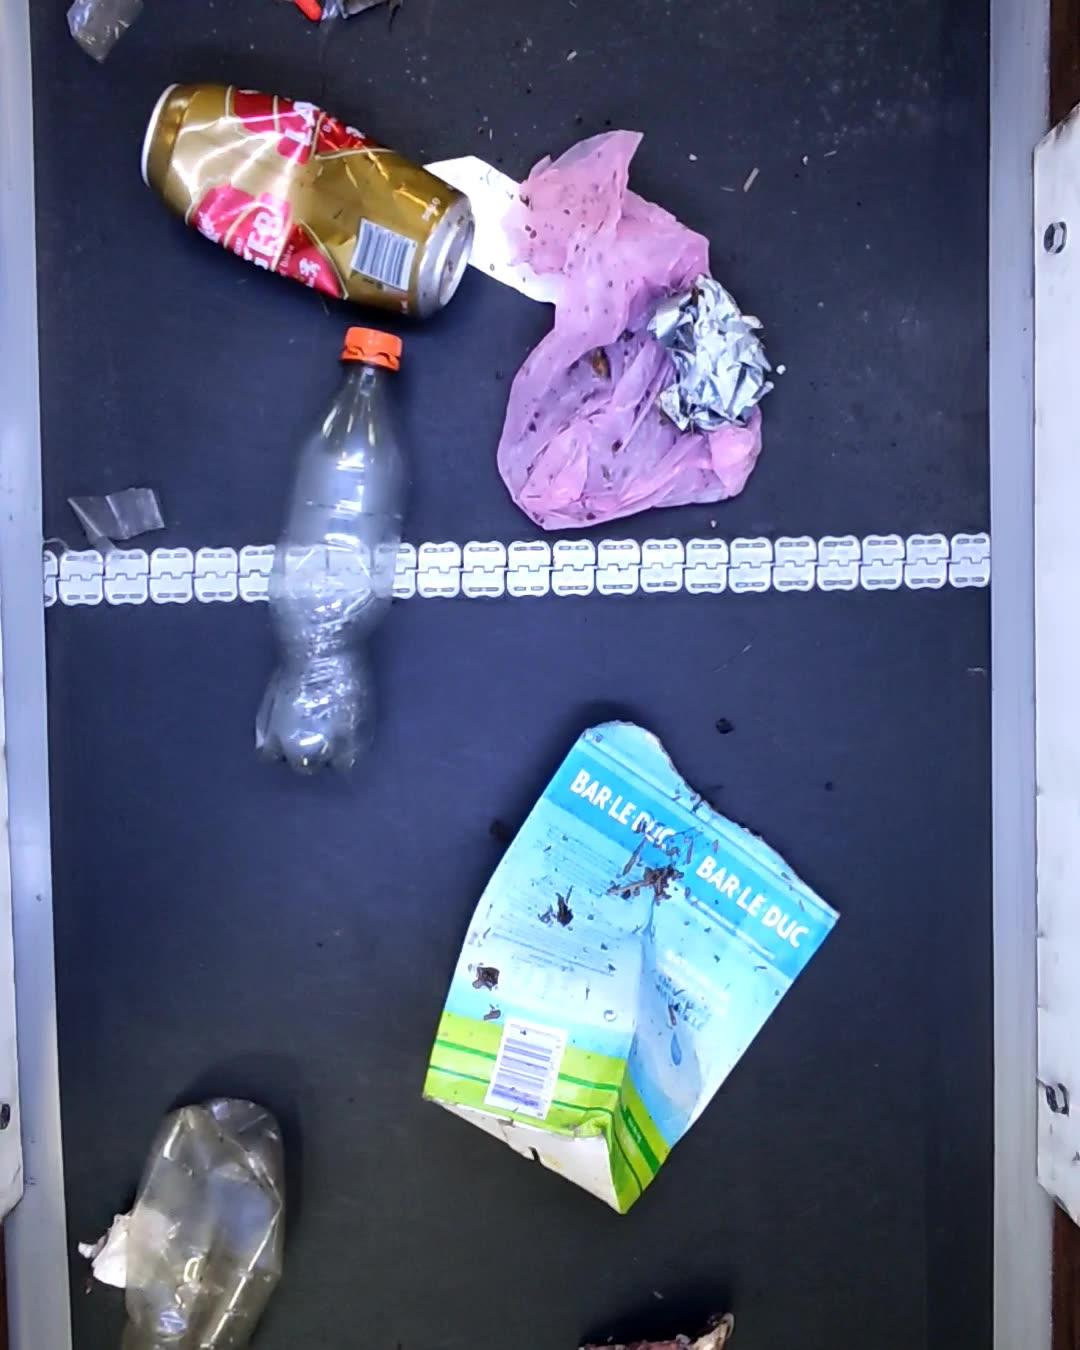Drankblikjes: (132, 82, 469, 330)
Drankflessen - 1-2 liter: (248, 325, 411, 781), (128, 1098, 283, 1350)
Plastic folies of stukken daarvan 2.5- 50 cm: (68, 488, 165, 560), (66, 0, 143, 65)
